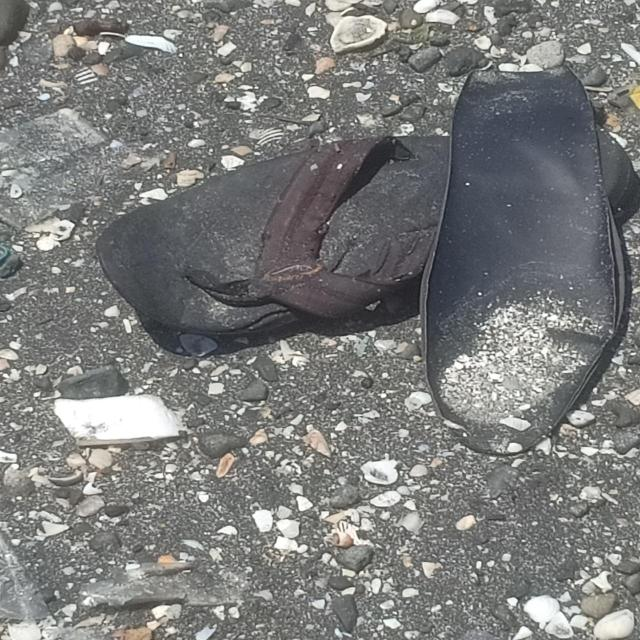litter: (425, 56, 637, 454), (96, 134, 454, 336)
